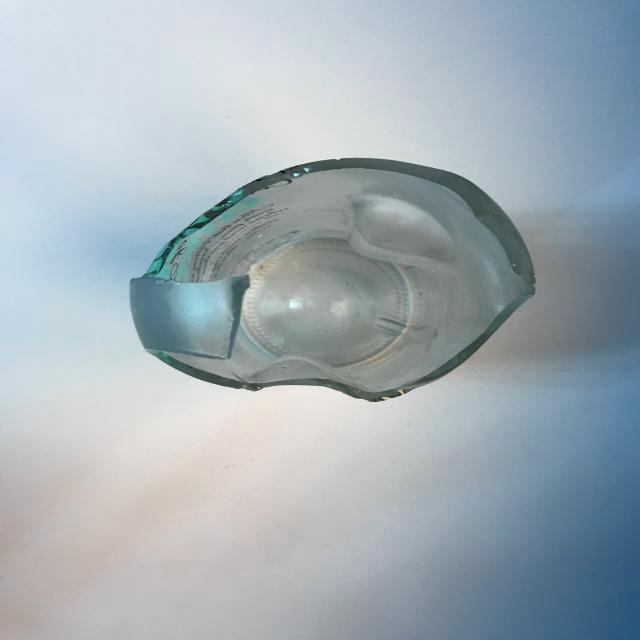glass: (100, 113, 573, 427)
